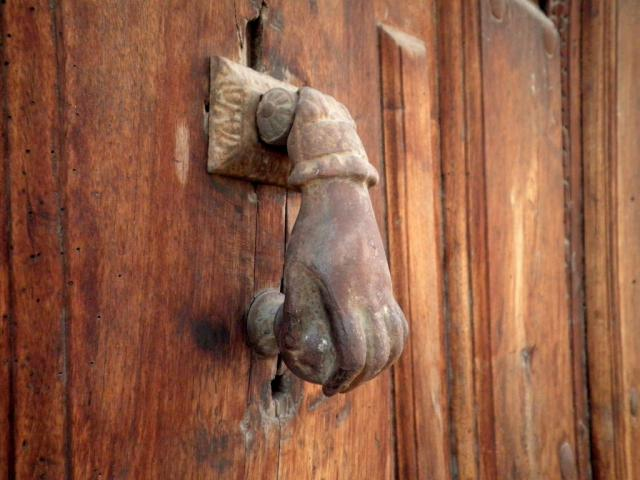Door-handle: (204, 50, 409, 405)
